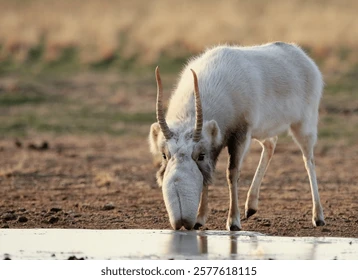saiga: (148, 41, 330, 235)
